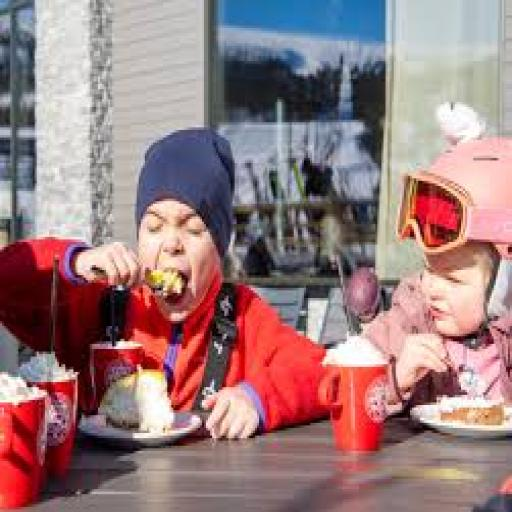red mug: (20, 369, 75, 474), (318, 364, 386, 448), (0, 390, 47, 507), (92, 341, 143, 402)
